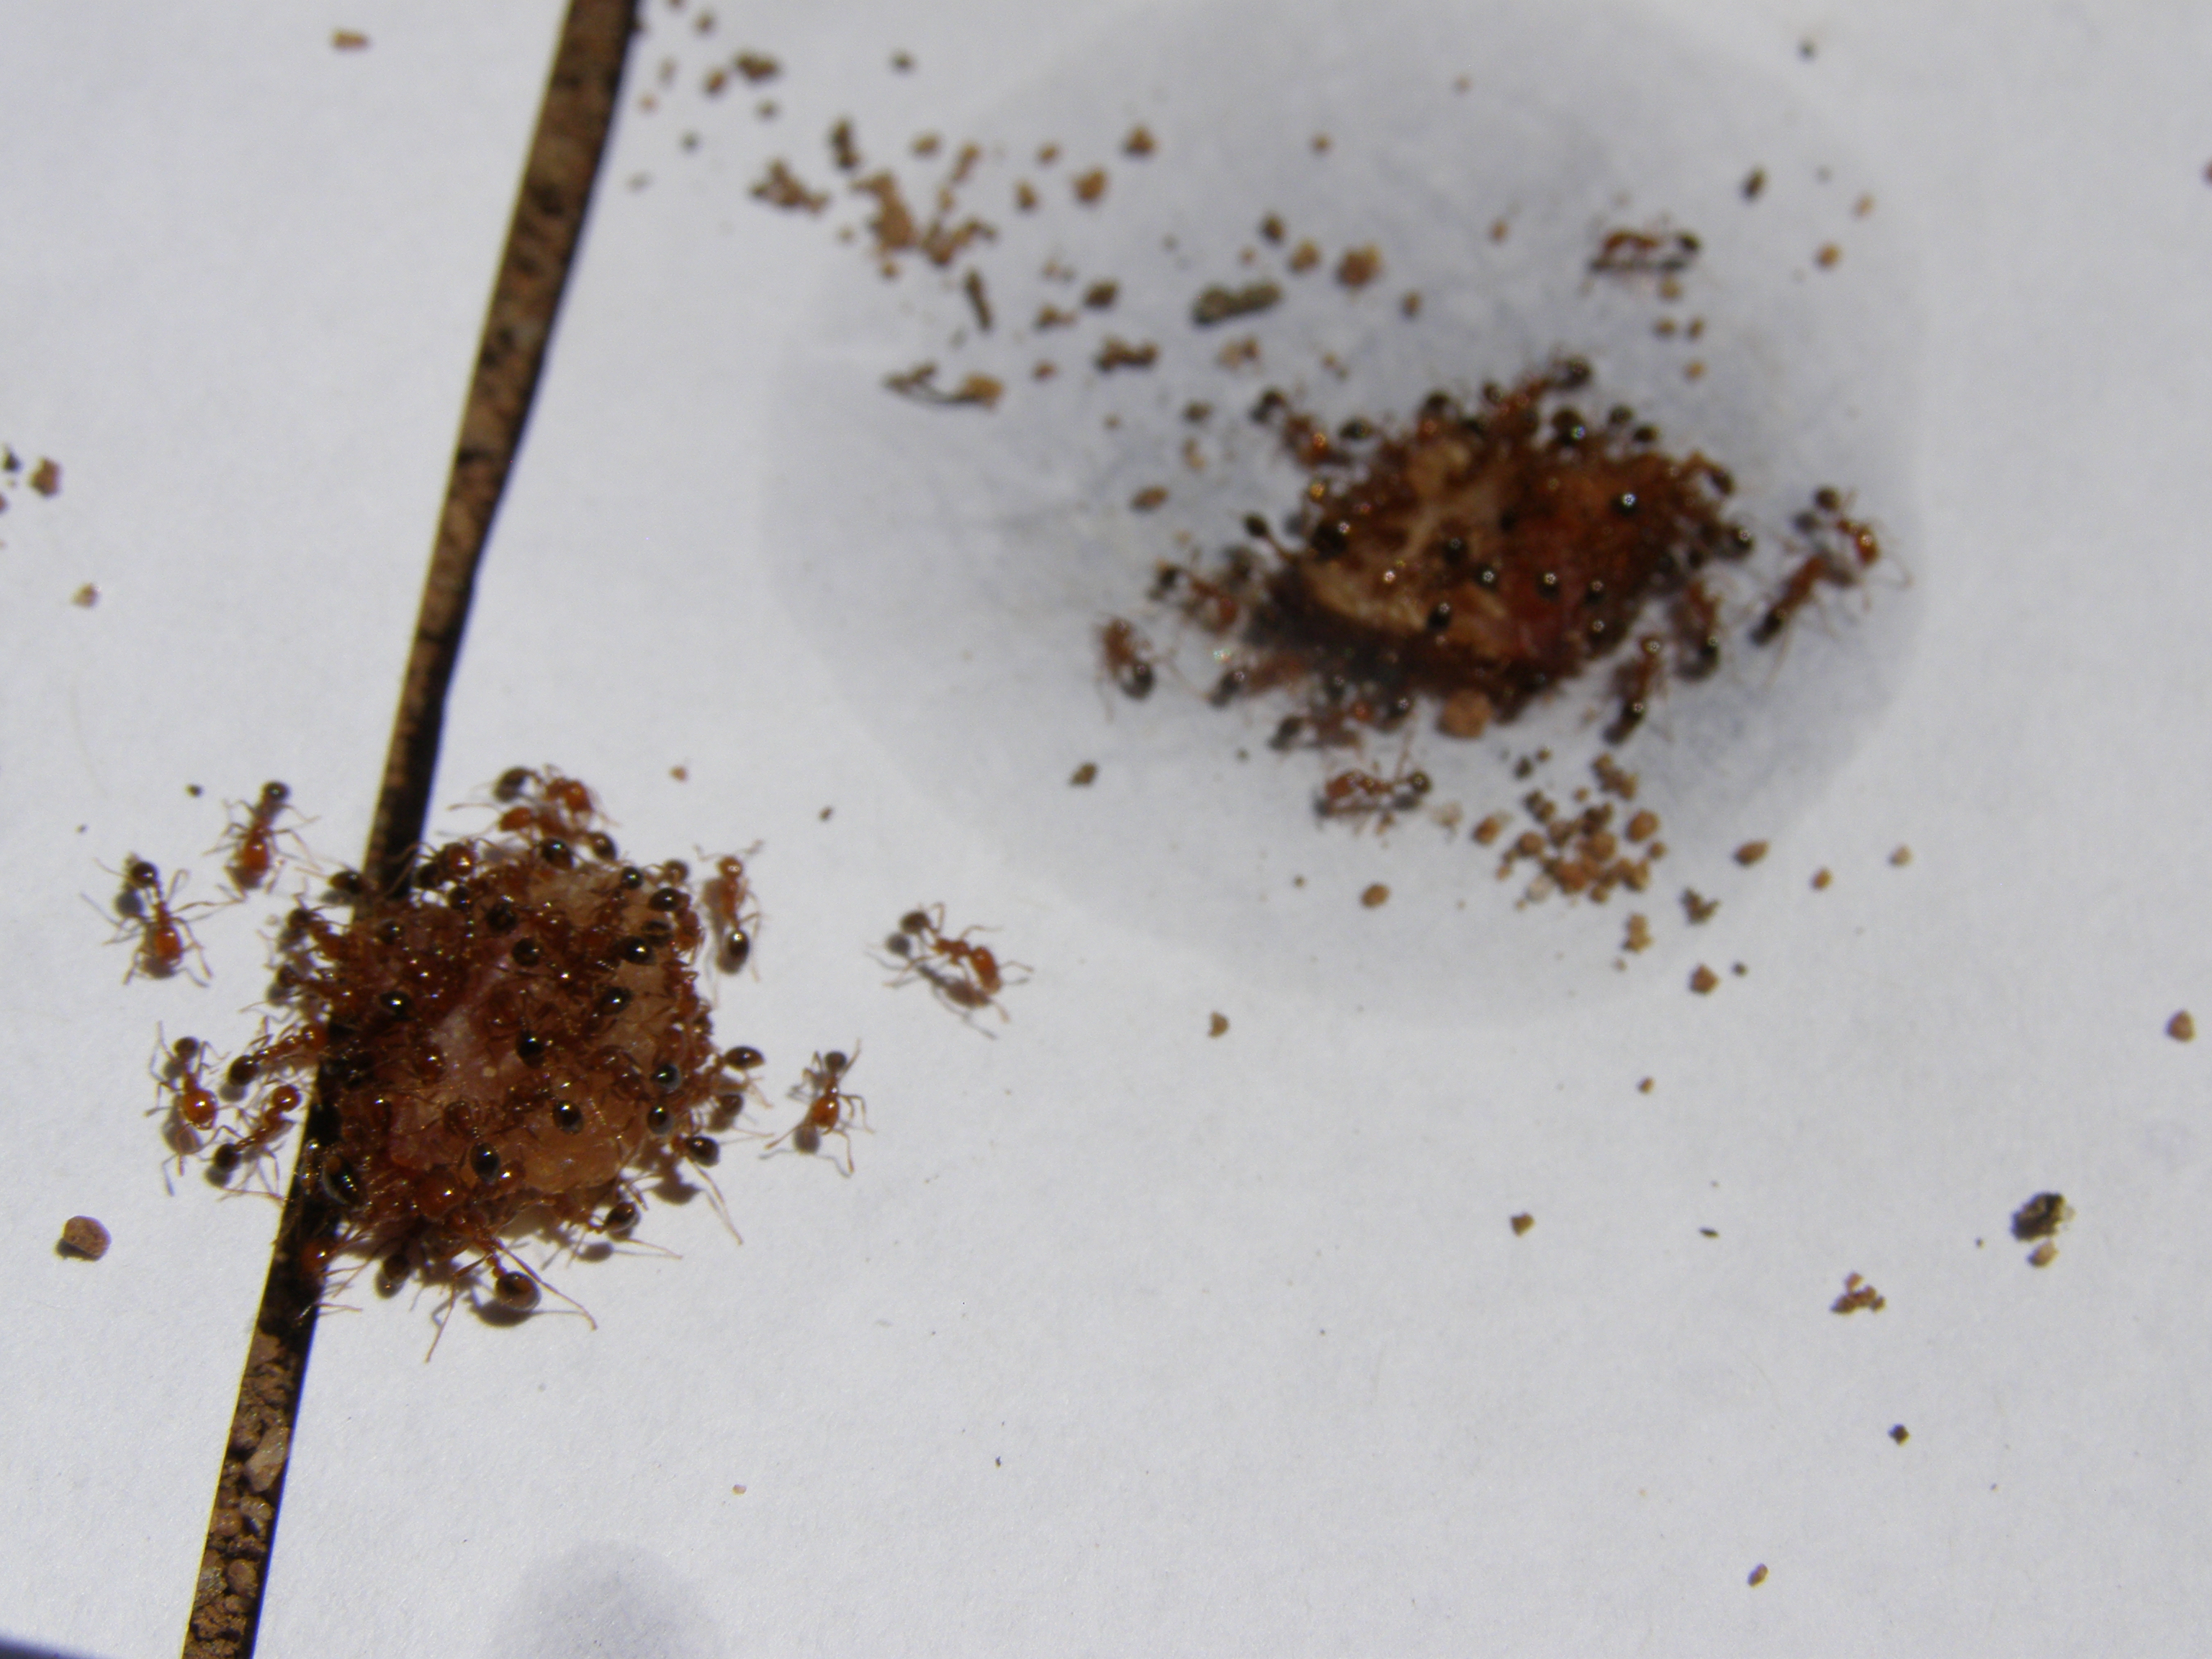Solenopsis_geminata: (855, 866, 1052, 1073), (68, 817, 230, 1033), (756, 1011, 897, 1208), (188, 746, 333, 925)
